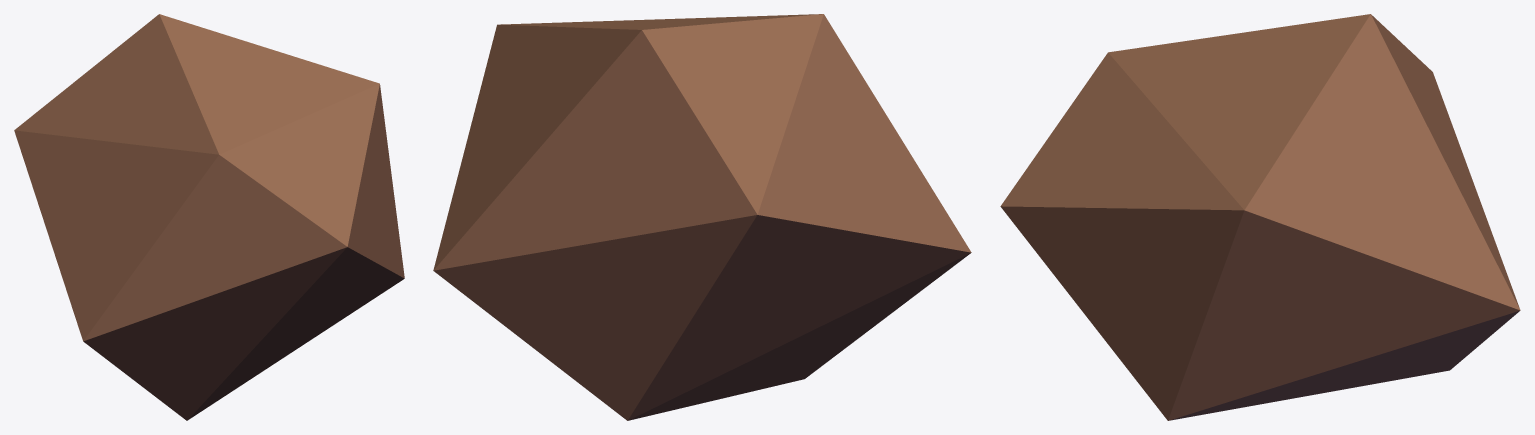
The model's file is rubble__a.glb.
3 renders of one model, left to right at view 1: azimuth 30°, elevation 25°; view 2: azimuth 150°, elevation 25°; view 3: azimuth 270°, elevation 25°, orthographic. The views are drawn at different scales.
Visible parts, largest first — view 1: chunk; view 2: chunk; view 3: chunk.
Boxes of the visible parts, x1,y1,x2,y2 form: chunk: [14, 14, 404, 420]; chunk: [433, 14, 971, 420]; chunk: [1000, 14, 1520, 420].
Size of the model in its own units: 0.7918 by 0.7353 by 0.8288.
